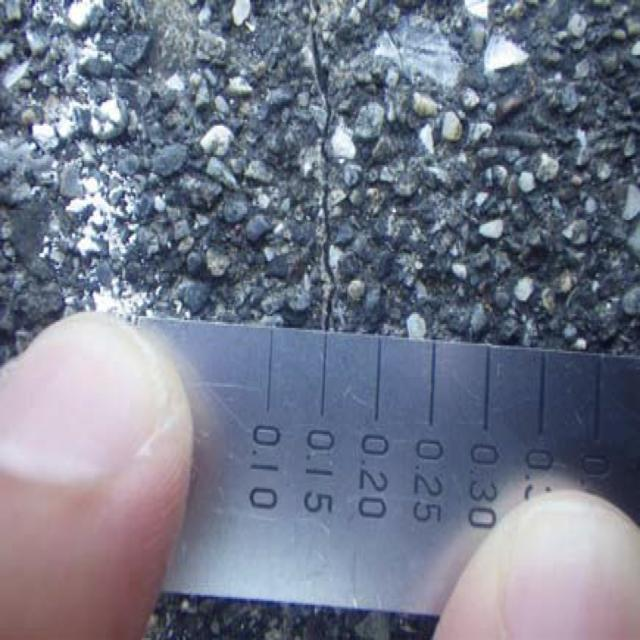crack: (302, 10, 358, 327)
